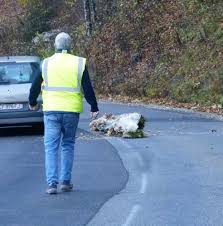car: (1, 55, 49, 134)
obstacle: (90, 110, 148, 140)
person: (34, 28, 98, 197)
